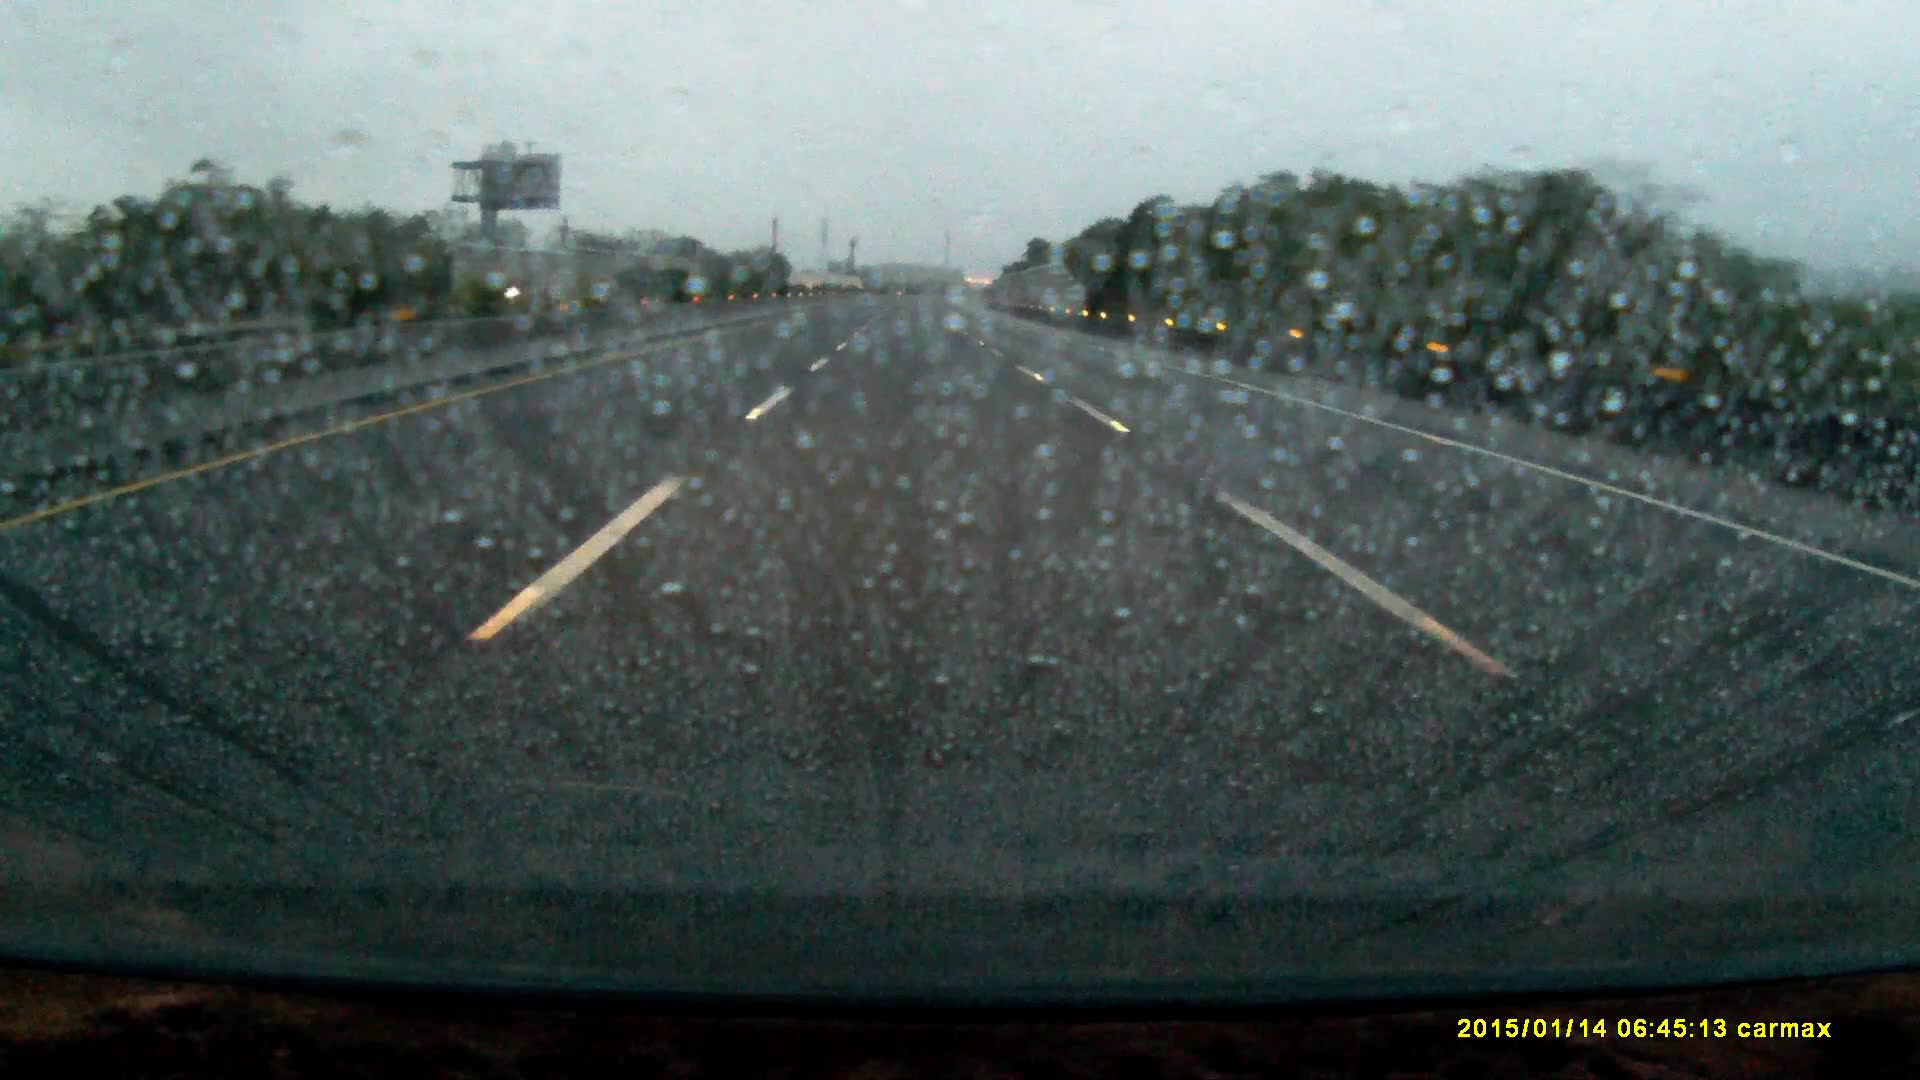vehicle: (516, 268, 597, 309)
